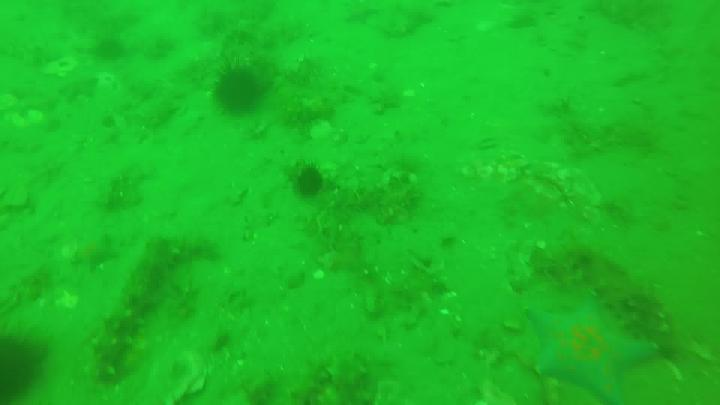echinus: (4, 330, 45, 405), (214, 56, 260, 117), (300, 161, 326, 200), (89, 39, 126, 62)
holothurian: (88, 243, 178, 376), (569, 254, 681, 351), (313, 354, 371, 405)
starfish: (527, 287, 659, 405)
